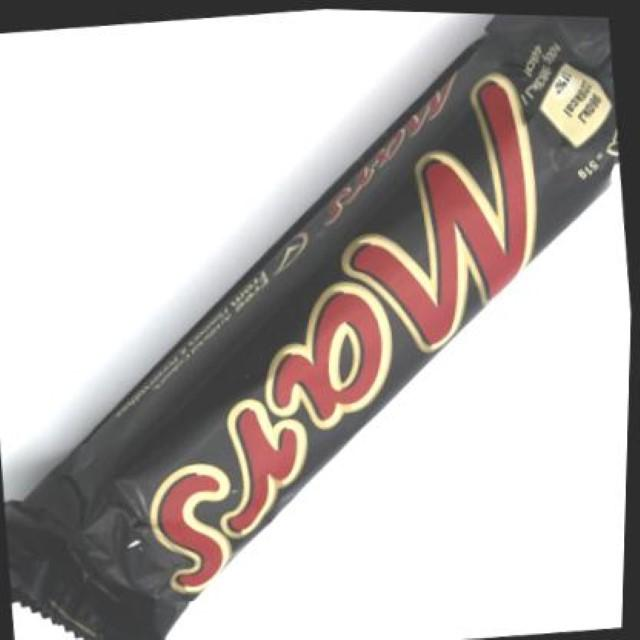mars_chocolate: (90, 60, 560, 588)
